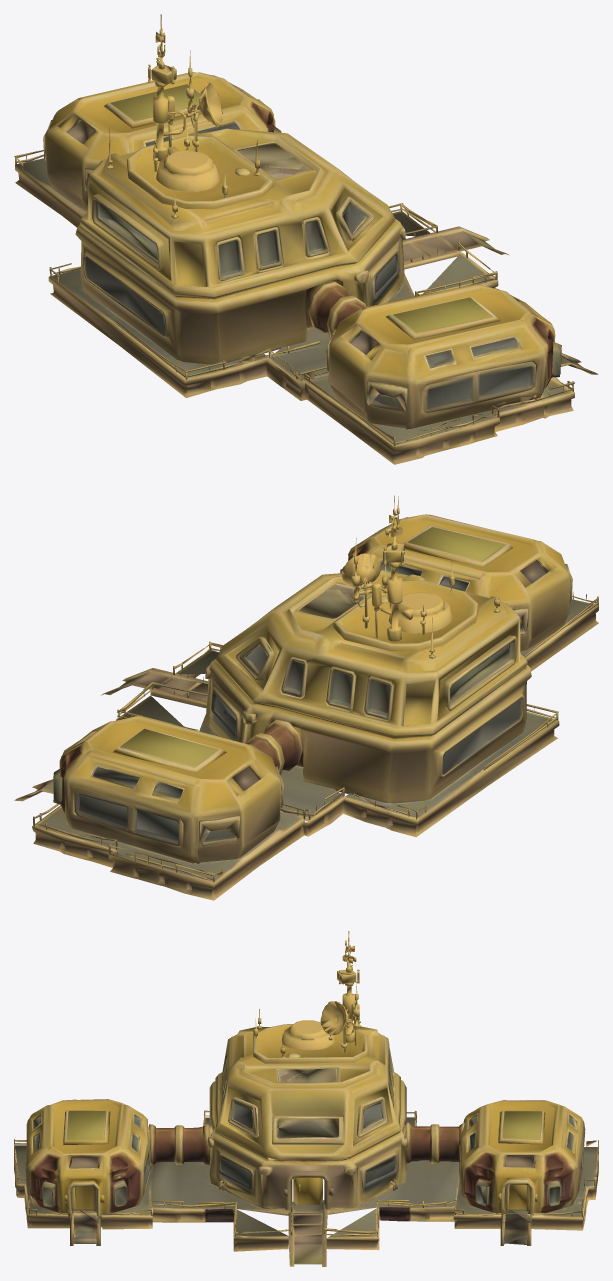
The picture shows the model from 3 angles, top to bottom: view 1: azimuth 30°, elevation 25°; view 2: azimuth 150°, elevation 25°; view 3: azimuth 270°, elevation 25°; orthographic projection. The views are drawn at different scales.
Visible parts, largest first — view 1: tripo_node_32932f9f-0b40-448b-a2f1-66be402ba365; view 2: tripo_node_32932f9f-0b40-448b-a2f1-66be402ba365; view 3: tripo_node_32932f9f-0b40-448b-a2f1-66be402ba365.
Part boxes in pixels (left/top/right/bottom): tripo_node_32932f9f-0b40-448b-a2f1-66be402ba365: left=14, top=14, right=598, bottom=464; tripo_node_32932f9f-0b40-448b-a2f1-66be402ba365: left=14, top=495, right=598, bottom=900; tripo_node_32932f9f-0b40-448b-a2f1-66be402ba365: left=14, top=931, right=598, bottom=1266.
Bounding box in the file's own units: 1.4 × 1.04 × 2.43.
1 material, 1 textured.
